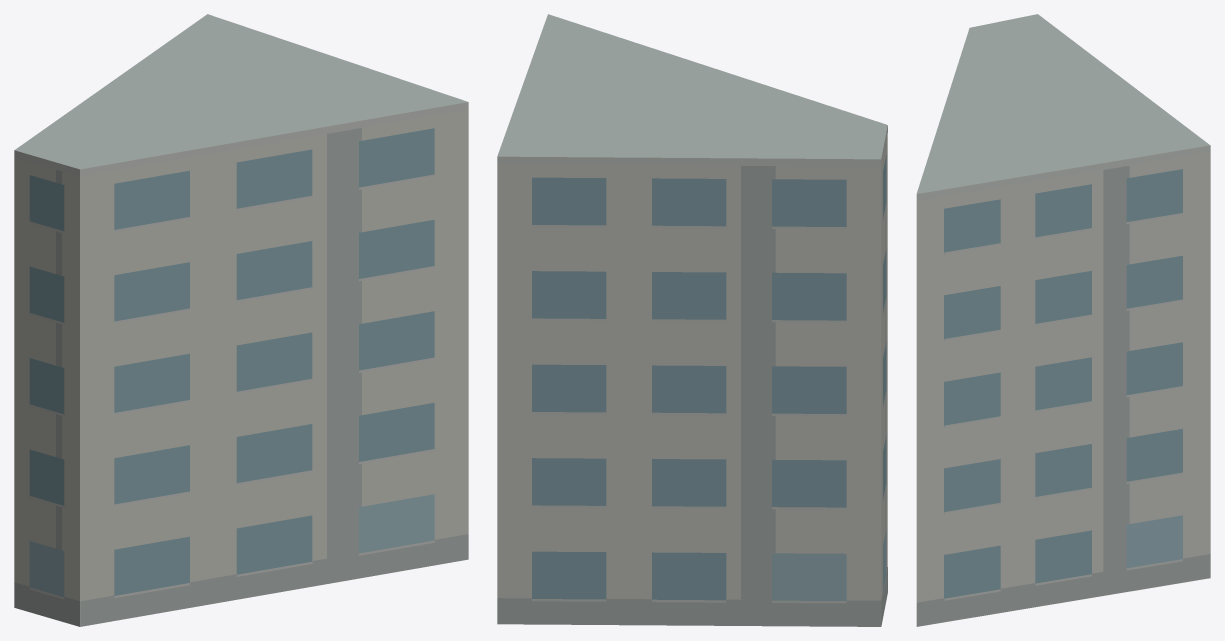
Rendered from survey-upis-32809175.glb.
3 renders of one model, left to right at view 1: azimuth 30°, elevation 25°; view 2: azimuth 150°, elevation 25°; view 3: azimuth 270°, elevation 25°, orthographic. The views are drawn at different scales.
Visible parts, largest first — view 1: survey-upis-32809175.tmp; view 2: survey-upis-32809175.tmp; view 3: survey-upis-32809175.tmp.
Part boxes in pixels (box(x1,y1,x2,y2)): survey-upis-32809175.tmp: box(14, 14, 468, 626); survey-upis-32809175.tmp: box(497, 14, 887, 626); survey-upis-32809175.tmp: box(916, 14, 1210, 626).
Size of the model in its own units: 13.62 by 15.25 by 9.4.
